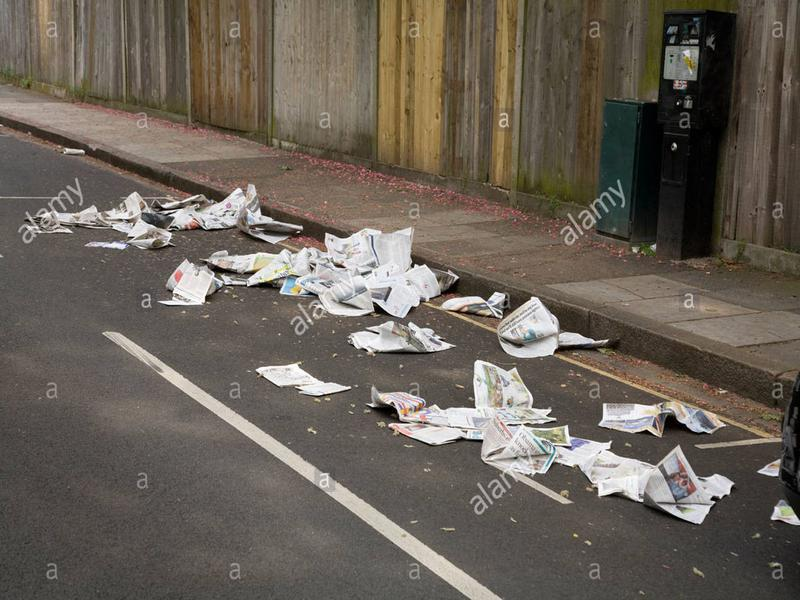paper: (368, 359, 571, 491), (19, 176, 311, 248), (251, 223, 460, 322), (571, 440, 739, 529), (496, 295, 617, 364), (591, 393, 731, 443), (345, 317, 457, 364), (248, 357, 357, 403), (156, 253, 228, 314), (440, 285, 511, 321)
